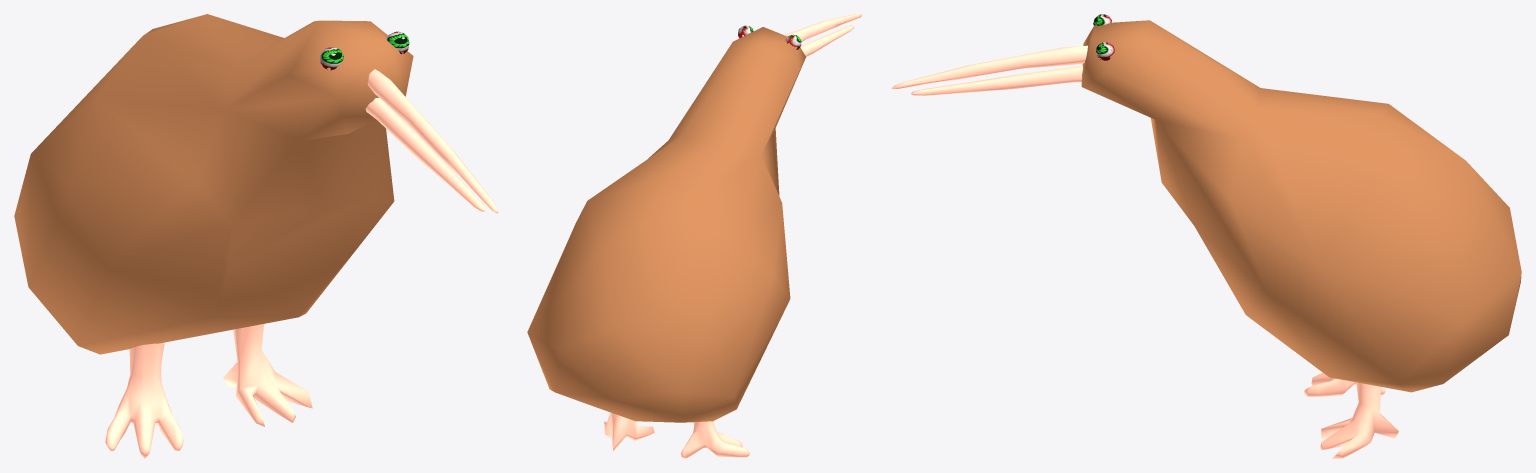
The model's file is kiwi.fbx.
The picture shows the model from 3 angles, left to right: view 1: azimuth 30°, elevation 25°; view 2: azimuth 150°, elevation 25°; view 3: azimuth 270°, elevation 25°; orthographic projection. The views are drawn at different scales.
Visible parts, largest first — view 1: Beak_lower_half; view 2: Beak_lower_half; view 3: Beak_lower_half.
Part boxes in pixels (<box>): Beak_lower_half: <box>14,14,498,458</box>; Beak_lower_half: <box>527,14,862,458</box>; Beak_lower_half: <box>891,14,1521,458</box>.
Size of the model in its own units: 11959 by 19147 by 27416.
